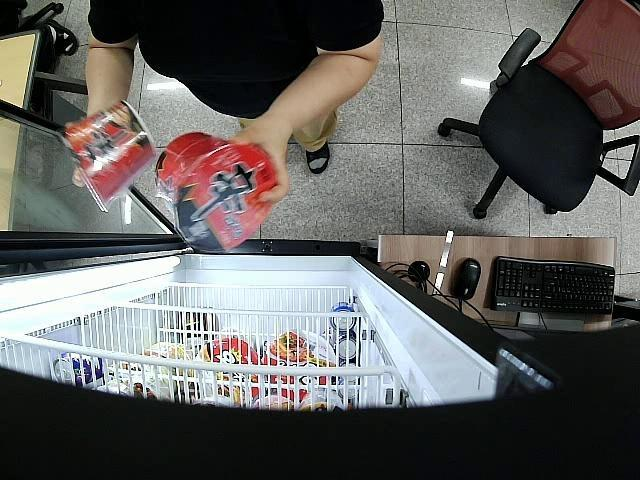01_ShinRamen_L: (154, 130, 278, 253), (63, 100, 154, 211)
